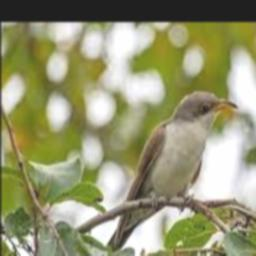Cuckoo: (84, 90, 239, 256)
